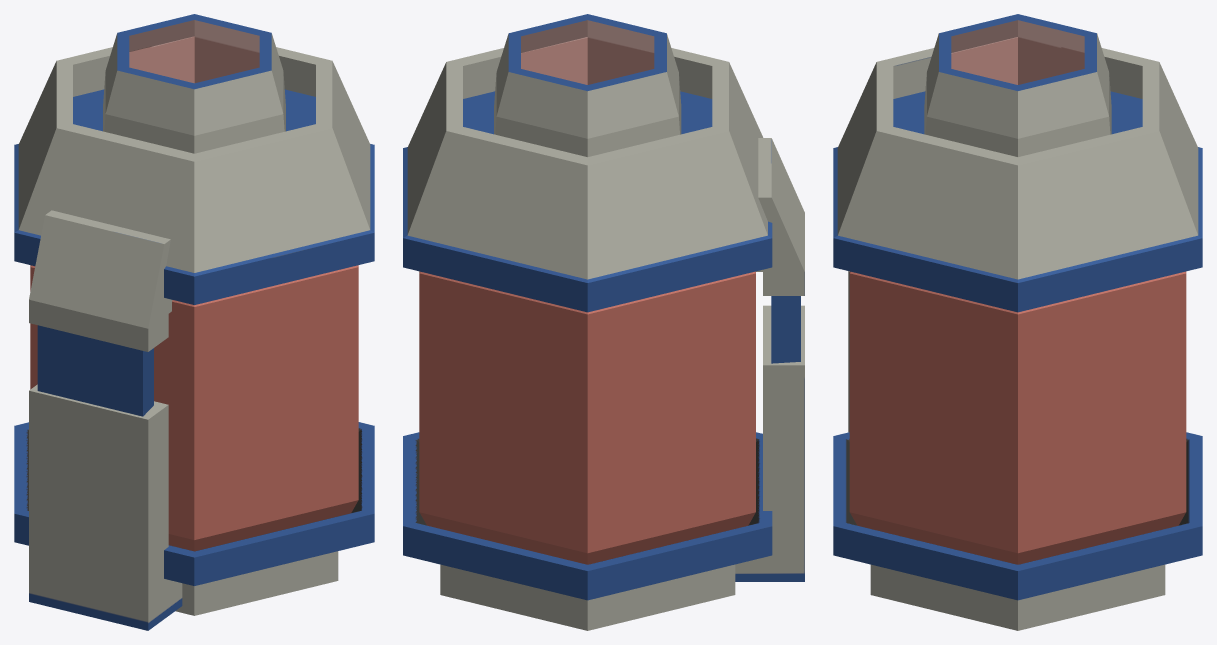
Rendered from 检测大1.fbx.
3 renders of one model, left to right at view 1: azimuth 30°, elevation 25°; view 2: azimuth 150°, elevation 25°; view 3: azimuth 270°, elevation 25°, orthographic. The views are drawn at different scales.
Visible parts, largest first — view 1: 柱体.026; view 2: 柱体.026; view 3: 柱体.026.
Part boxes in pixels (box(x1,y1,x2,y2)): 柱体.026: box(14, 14, 374, 630); 柱体.026: box(403, 14, 804, 630); 柱体.026: box(833, 14, 1202, 630).
Size of the model in its own units: 171 by 218 by 144.
1 material, 1 textured.
